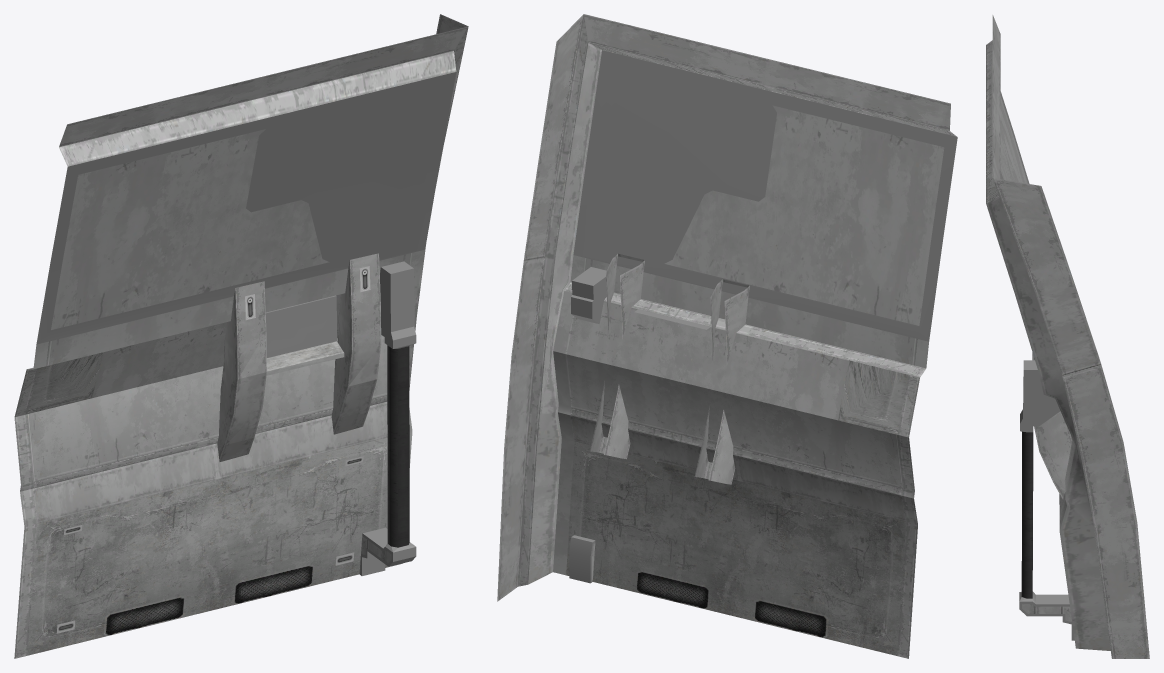
The model's file is Shuttle_Interior_Bay_Wall.FBX.
3 renders of one model, left to right at view 1: azimuth 30°, elevation 25°; view 2: azimuth 150°, elevation 25°; view 3: azimuth 270°, elevation 25°, orthographic. The views are drawn at different scales.
Parts seen in each view (by area): view 1: Shuttle_Interior_Bay_Wall; view 2: Shuttle_Interior_Bay_Wall; view 3: Shuttle_Interior_Bay_Wall.
Part boxes in pixels (box(x1,y1,x2,y2)): Shuttle_Interior_Bay_Wall: box(14, 14, 468, 658); Shuttle_Interior_Bay_Wall: box(497, 14, 957, 658); Shuttle_Interior_Bay_Wall: box(986, 15, 1149, 658).
Bounding box in the file's own units: 1.52 × 2.06 × 0.6347.
